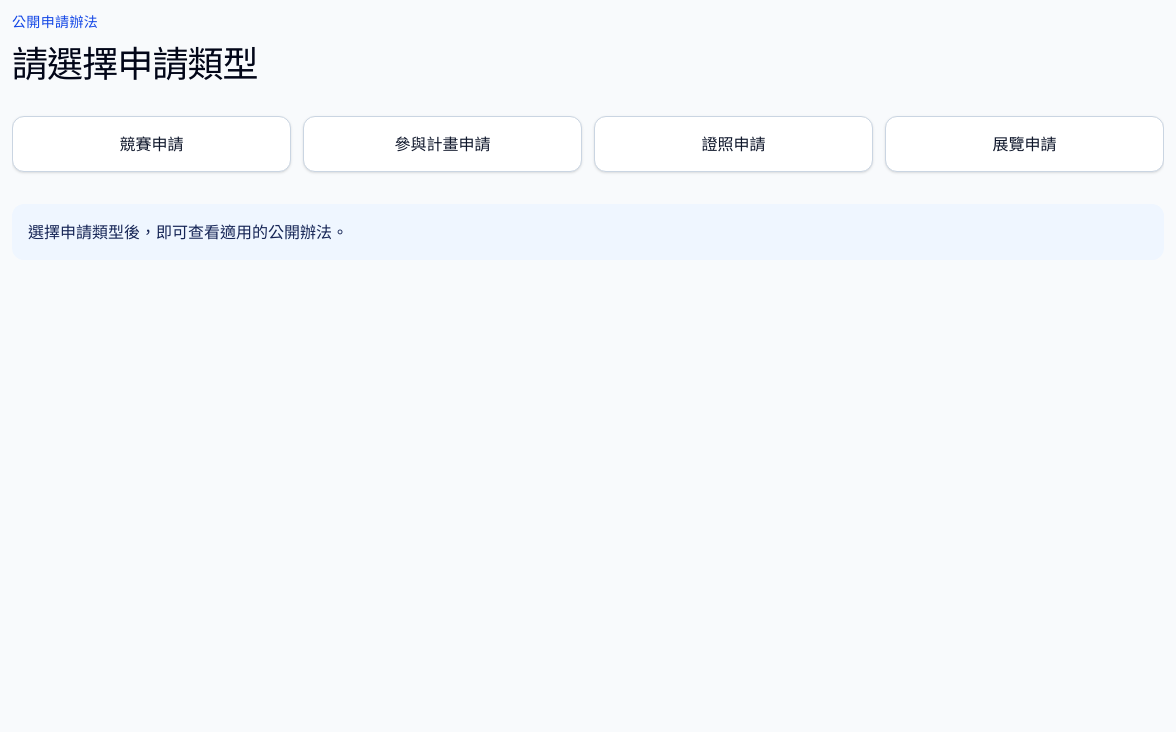
Scenario: PublishedInstructionsPage › does not show a stale result after quickly changing application type
Click the button "競賽申請": (152, 144) [12,116,291,172]
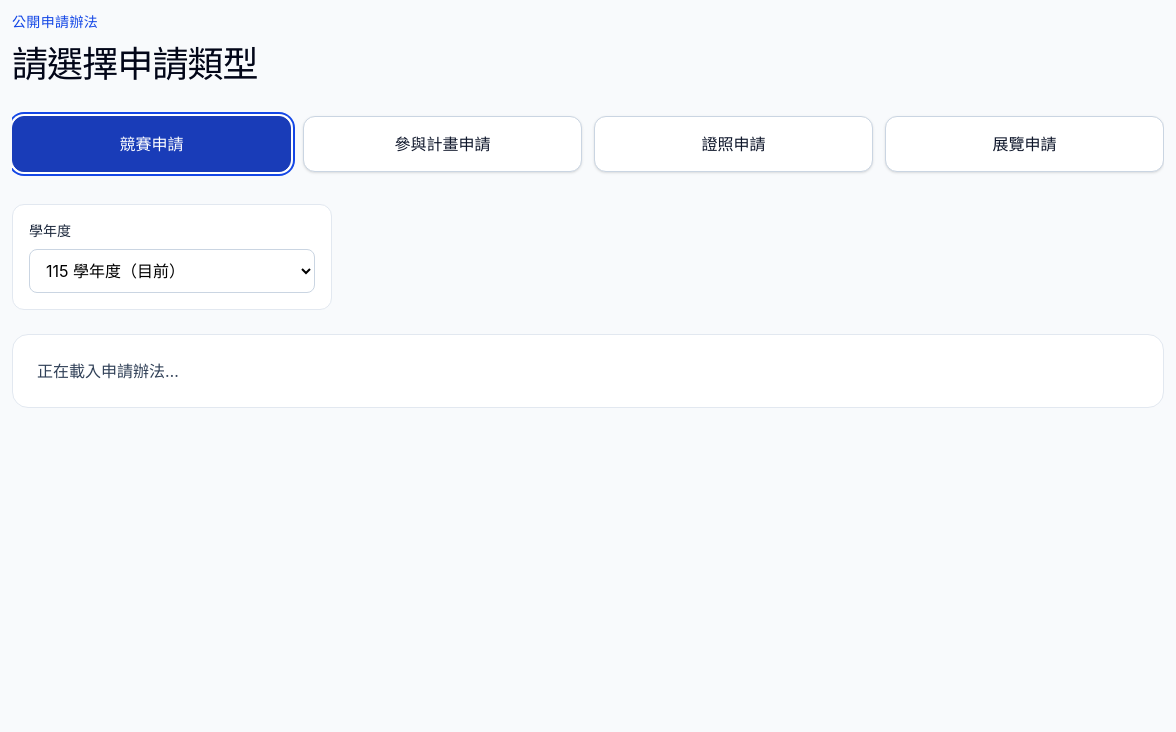
Click the button "證照申請": (734, 144) [594,116,873,172]
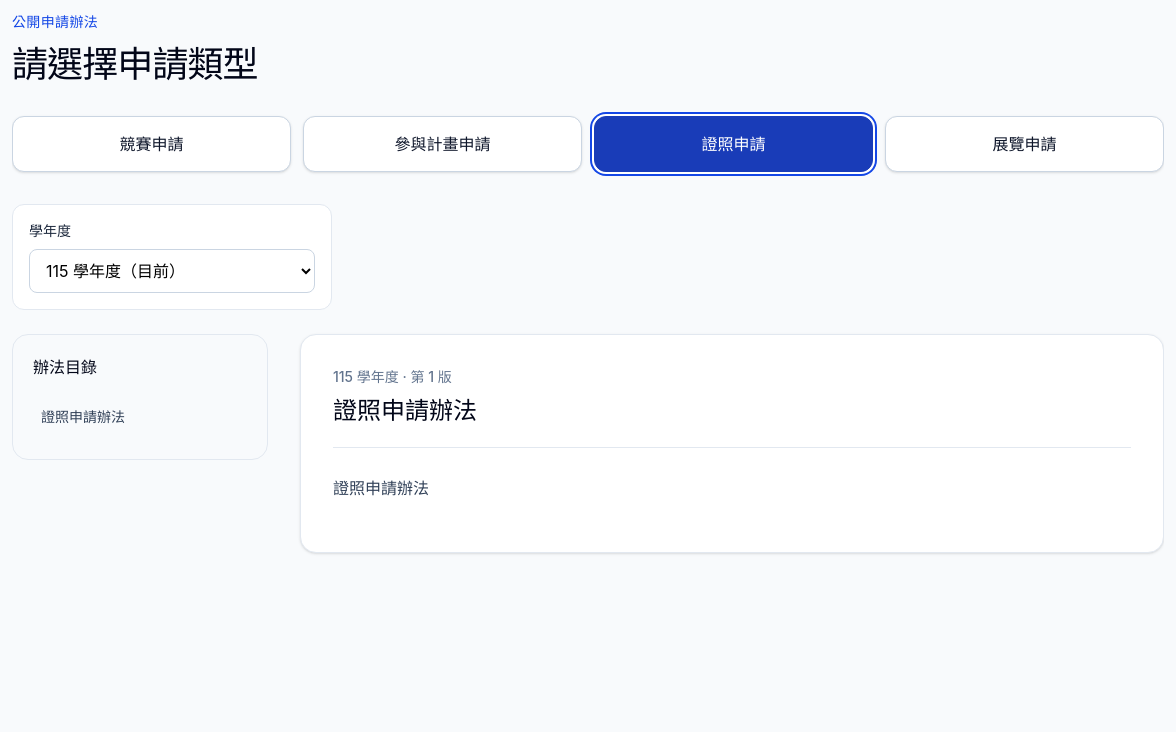
expect the link "證照申請辦法" is shown: met, box [41,408,125,425]
